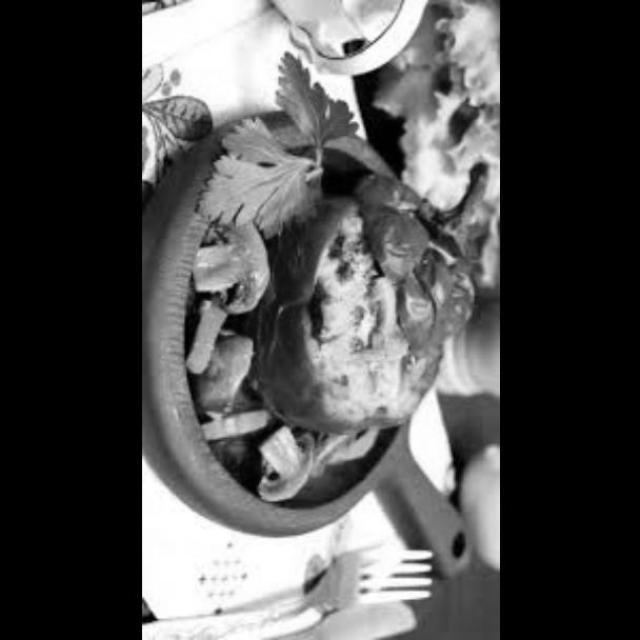ot chuong: (240, 196, 406, 450), (373, 155, 499, 336)
xa lach: (388, 0, 500, 288)
